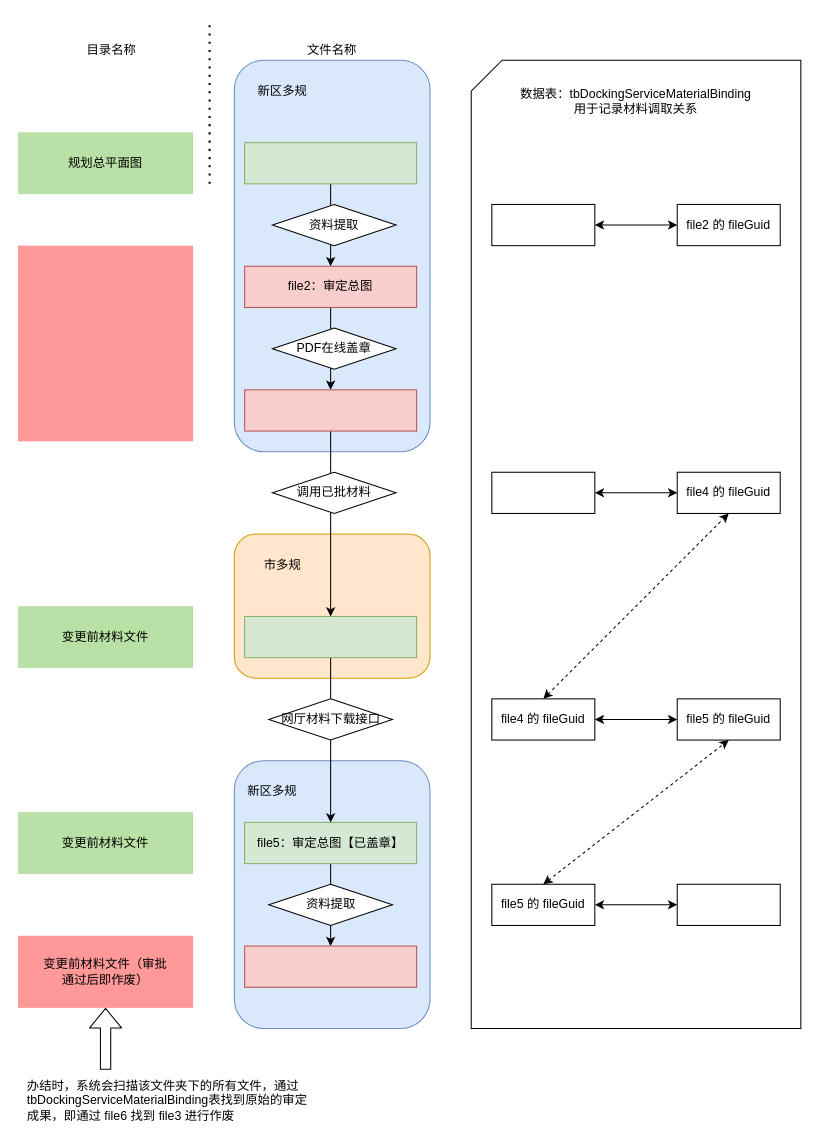
Some shapes in this 819 by 1148 pixel diagram are drawn without their labels. The centre of each missing label's shape, as x and y in pixels:
file1 的 fileGuid: the point at 543,224
file1：总图: the point at 330,163
file3 的 fileGuid: the point at 543,492
file3：审定总图【已盖章】: the point at 330,410
file4：审定总图【已盖章】: the point at 330,636
file6 的 fileGuid: the point at 728,904
file6：审定总图【已盖章】: the point at 330,966
规划总平面图（审定-需盖章）: the point at 105,343
